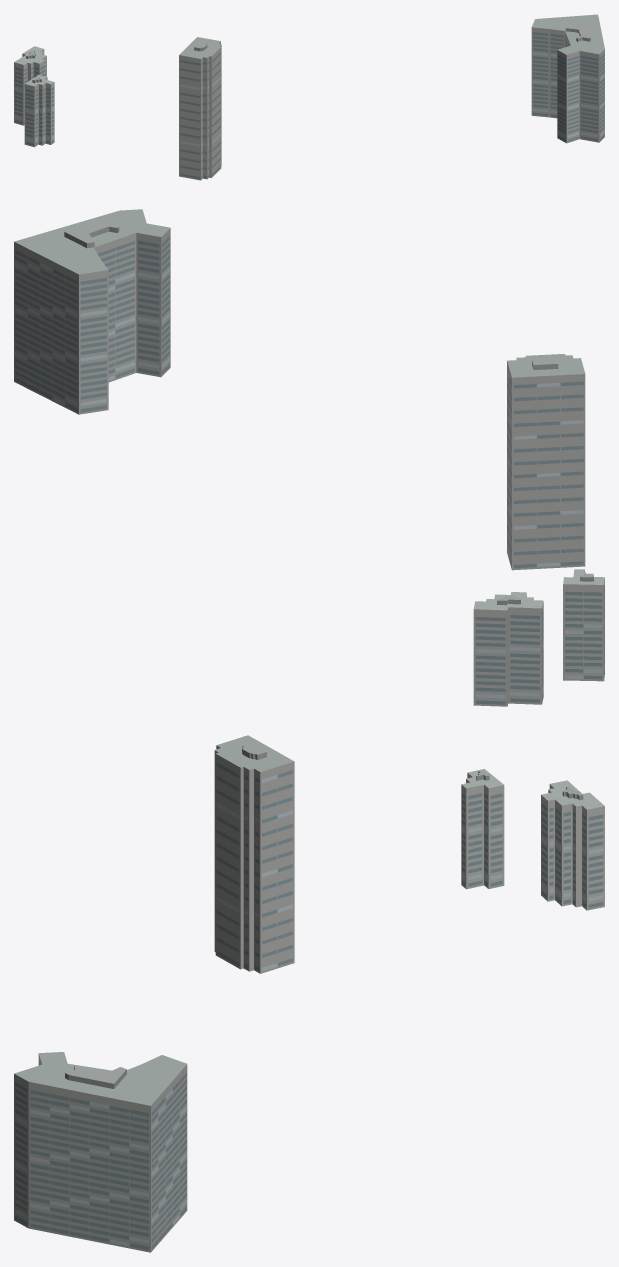
The model's file is apt-a12175203.glb.
The picture shows the model from 3 angles, top to bottom: view 1: azimuth 30°, elevation 25°; view 2: azimuth 150°, elevation 25°; view 3: azimuth 270°, elevation 25°; orthographic projection. The views are drawn at different scales.
Visible parts, largest first — view 1: apt-a12175203; view 2: apt-a12175203; view 3: apt-a12175203.
Part boxes in pixels (left/top/right/bottom): apt-a12175203: left=14, top=14, right=604, bottom=180; apt-a12175203: left=14, top=209, right=604, bottom=706; apt-a12175203: left=14, top=735, right=604, bottom=1252.
Size of the model in its own units: 373 by 93.9 by 243.
